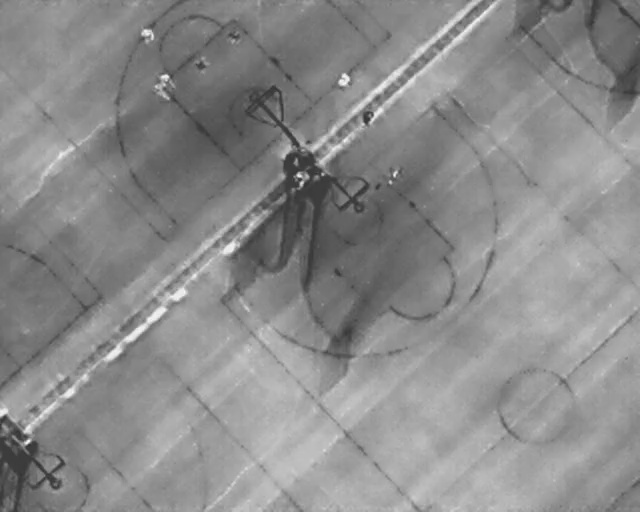Person: (149, 79, 177, 105), (381, 161, 404, 188), (333, 69, 354, 90), (224, 27, 244, 47), (138, 26, 155, 46), (360, 108, 374, 128), (195, 56, 211, 73), (158, 71, 171, 85)
